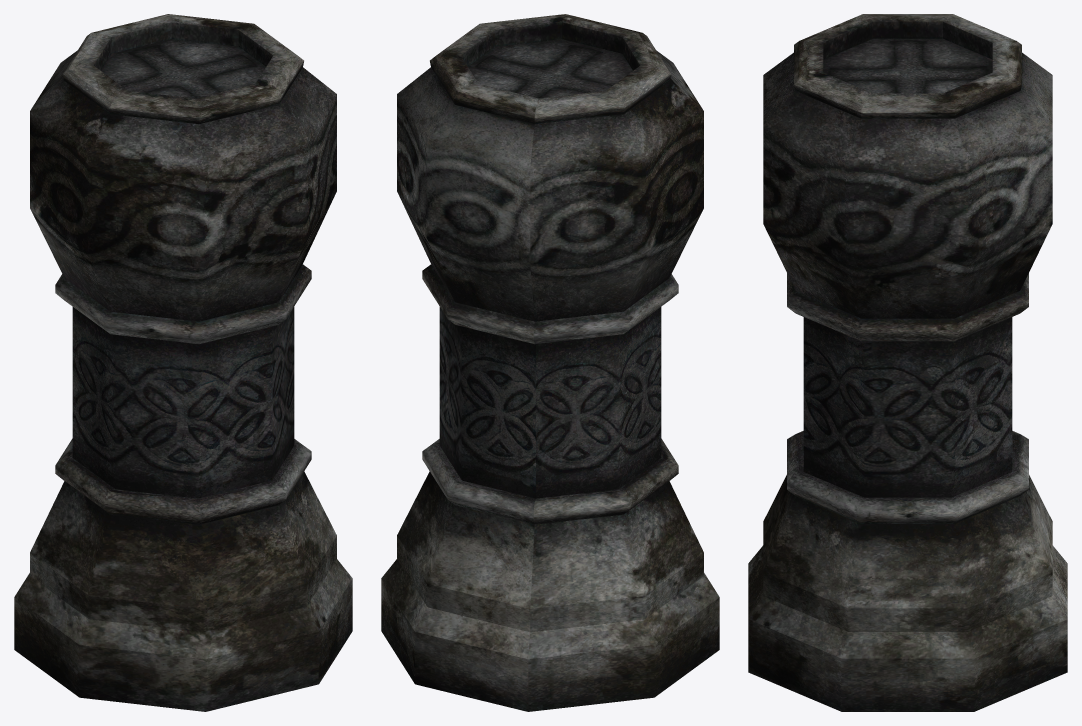
File: welder.dae
3 views of the same model, side by side, from view 1: azimuth 30°, elevation 25°; view 2: azimuth 150°, elevation 25°; view 3: azimuth 270°, elevation 25° (orthographic).
Parts seen in each view (by area): view 1: pCylinder1; view 2: pCylinder1; view 3: pCylinder1.
Part boxes in pixels (<box>): pCylinder1: <box>14,14,352,711</box>; pCylinder1: <box>381,14,719,711</box>; pCylinder1: <box>748,14,1067,711</box>.
Size of the model in its own units: 0.9166 by 1.86 by 0.9166.
